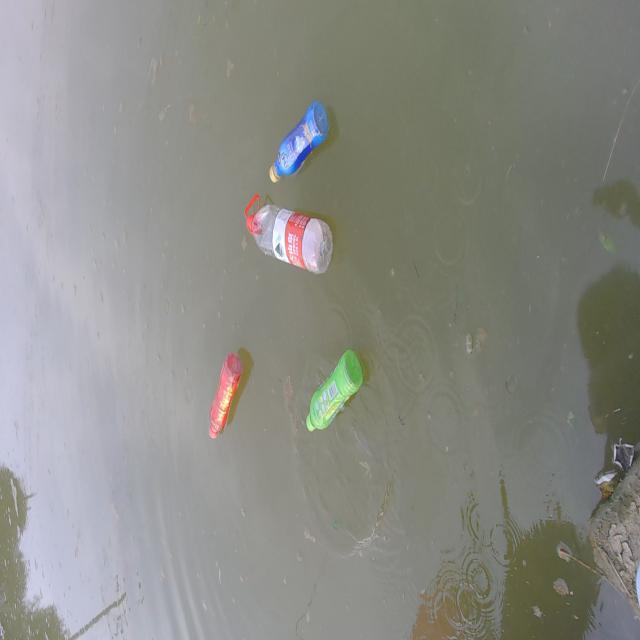bottle: (234, 166, 340, 281), (261, 83, 340, 192), (300, 335, 376, 440), (203, 347, 251, 448)
